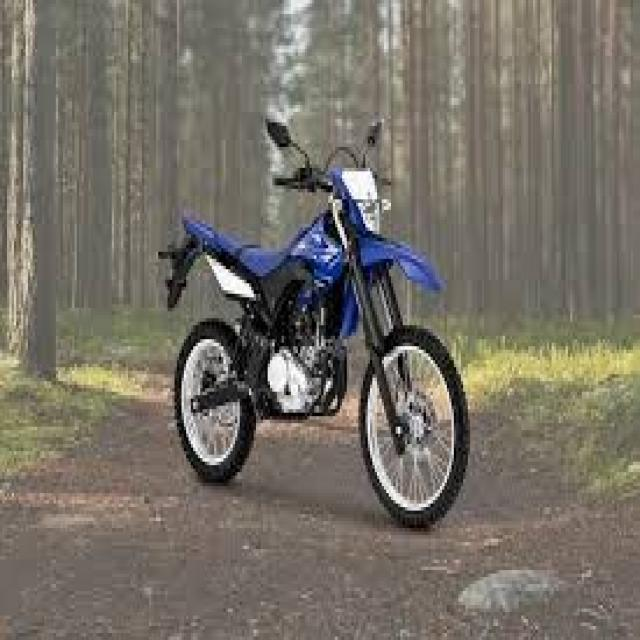Bike: (159, 118, 471, 531)
